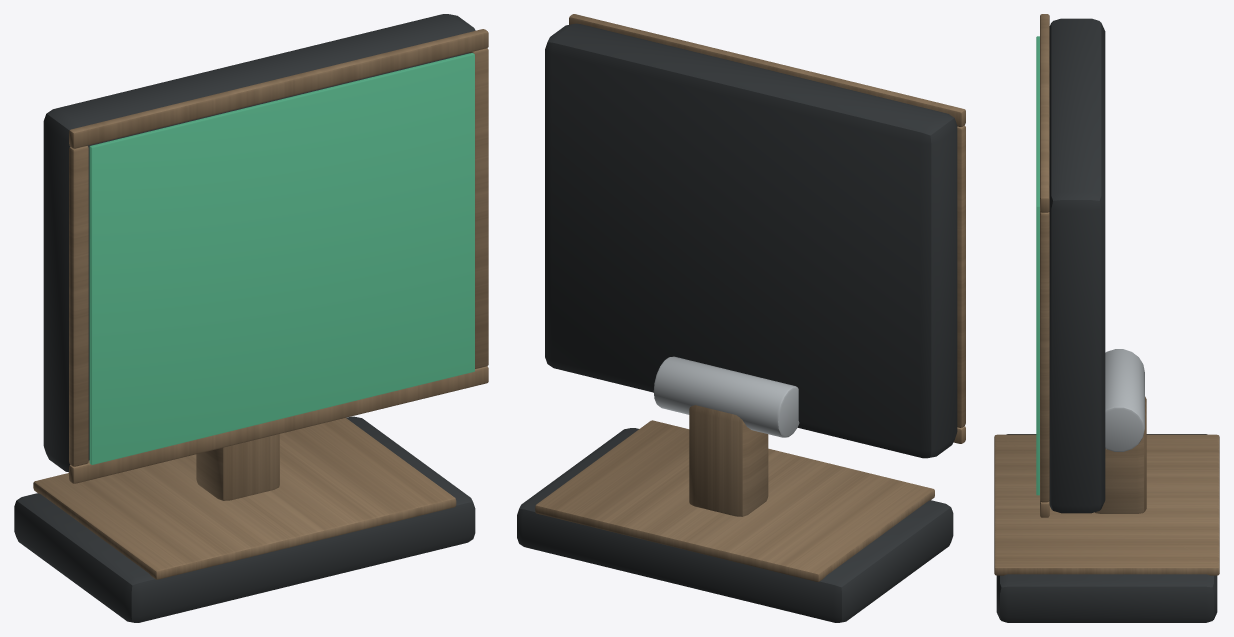
The model's file is pos_terminal_premium.glb.
3 views of the same model, side by side, from view 1: azimuth 30°, elevation 25°; view 2: azimuth 150°, elevation 25°; view 3: azimuth 270°, elevation 25° (orthographic). The views are drawn at different scales.
Visible parts, largest first — view 1: POS_Screen, POS_BaseTrim, POS_Base, POS_Back, POS_TrimTop, POS_TrimBottom, POS_TrimSide_-1, POS_TrimSide_1, POS_Stem; view 2: POS_Back, POS_BaseTrim, POS_Base, POS_Stem, POS_HingeKnuckle, POS_TrimTop, POS_TrimSide_-1; view 3: POS_Back, POS_BaseTrim, POS_Base, POS_HingeKnuckle, POS_Stem, POS_TrimSide_1, POS_TrimTop, POS_Screen.
Part boxes in pixels (bbox=[...]): POS_Screen: bbox=[89, 53, 474, 464]; POS_BaseTrim: bbox=[33, 418, 456, 579]; POS_Base: bbox=[14, 416, 475, 622]; POS_Back: bbox=[43, 14, 475, 472]; POS_TrimTop: bbox=[69, 29, 488, 148]; POS_TrimBottom: bbox=[69, 366, 488, 483]; POS_TrimSide_-1: bbox=[69, 146, 88, 466]; POS_TrimSide_1: bbox=[469, 48, 488, 368]; POS_Stem: bbox=[196, 434, 279, 500]; POS_Back: bbox=[545, 23, 957, 458]; POS_BaseTrim: bbox=[535, 420, 934, 581]; POS_Base: bbox=[517, 428, 953, 622]; POS_Stem: bbox=[689, 405, 768, 516]; POS_HingeKnuckle: bbox=[653, 356, 799, 437]; POS_TrimTop: bbox=[569, 14, 965, 126]; POS_TrimSide_-1: bbox=[957, 125, 965, 427]; POS_Back: bbox=[1049, 18, 1105, 513]; POS_BaseTrim: bbox=[994, 434, 1219, 575]; POS_Base: bbox=[996, 434, 1217, 622]; POS_HingeKnuckle: bbox=[1105, 349, 1144, 451]; POS_Stem: bbox=[1095, 396, 1146, 513]; POS_TrimSide_1: bbox=[1040, 211, 1049, 502]; POS_TrimTop: bbox=[1040, 14, 1049, 212]; POS_Screen: bbox=[1036, 36, 1039, 495].
Size of what is drawn, in the model's own units: 0.3572 by 0.3998 by 0.184.
4 materials, 1 textured.
